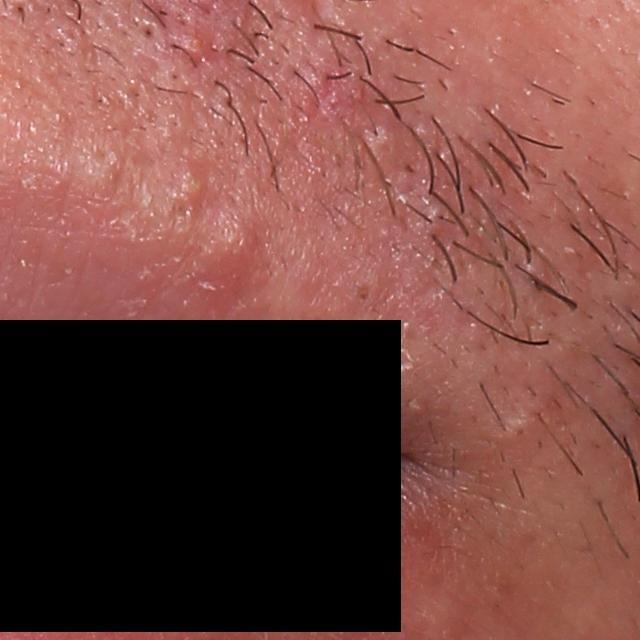comedo: (506, 408, 540, 443)
